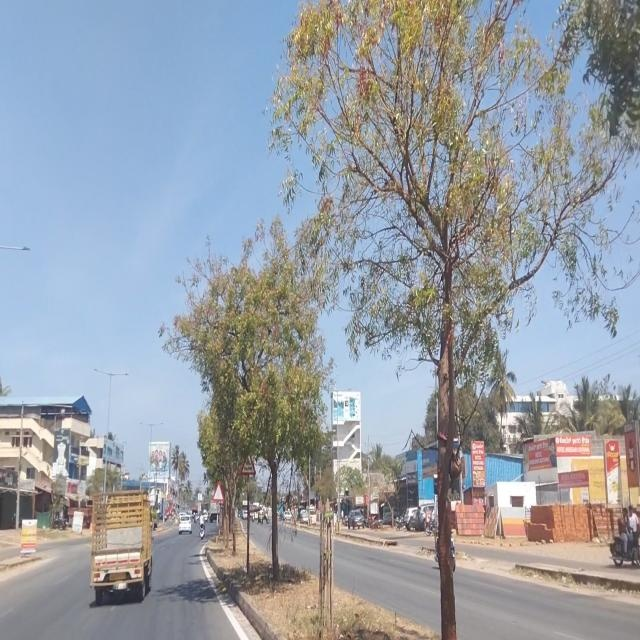bien_nguy_hiem: (240, 452, 255, 478), (212, 483, 224, 502)
